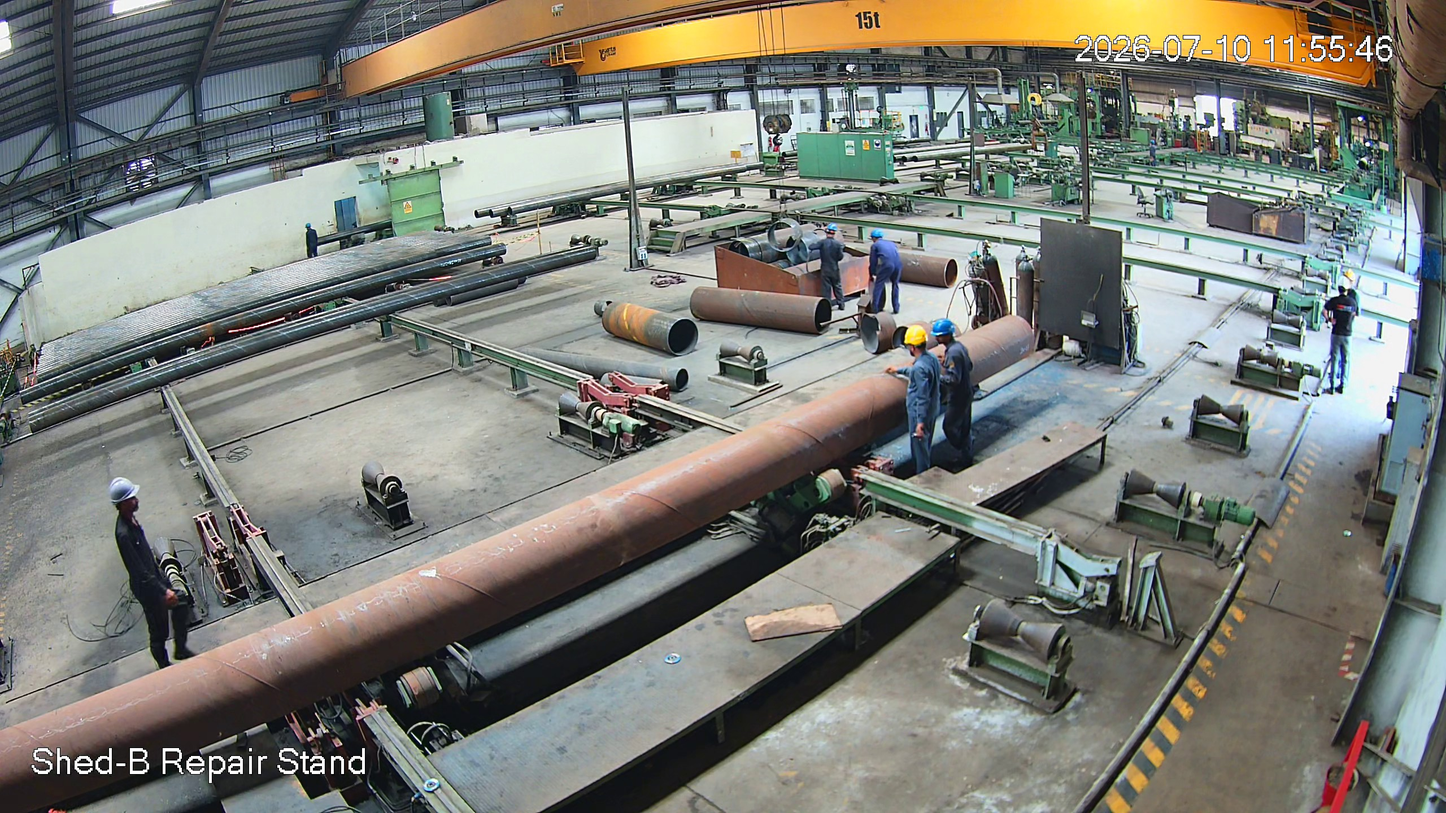Helmet: (102, 477, 148, 539), (896, 321, 933, 367), (928, 312, 958, 351), (1335, 267, 1355, 305), (818, 217, 841, 246), (867, 228, 892, 250), (302, 219, 319, 234)
Person: (93, 479, 193, 673), (892, 324, 937, 481), (933, 317, 965, 467), (1330, 270, 1364, 404), (809, 220, 847, 316), (866, 230, 903, 315), (298, 220, 325, 266)
